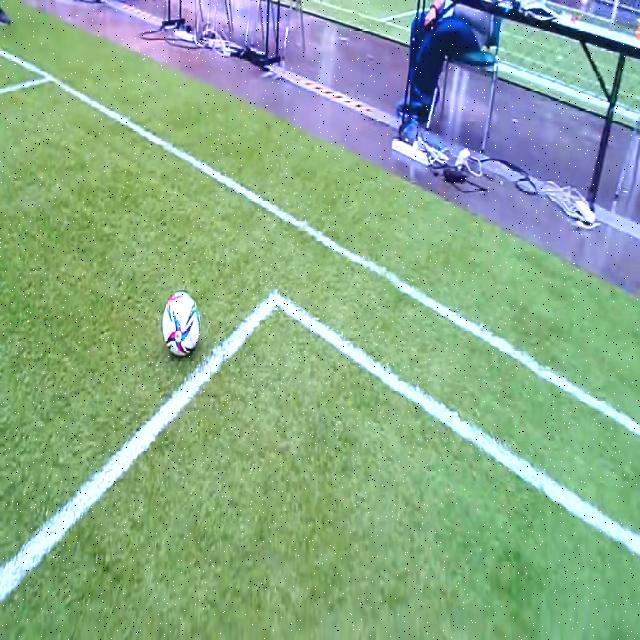ball: (162, 291, 200, 355)
